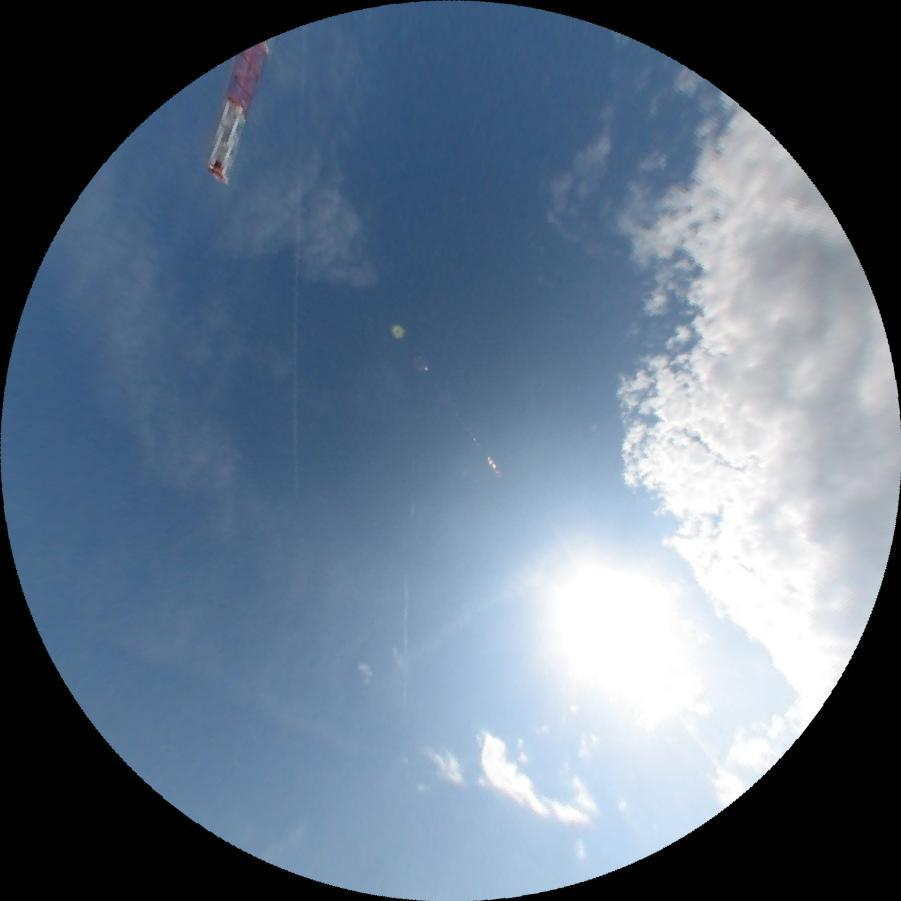contrail old: (403, 578, 408, 702)
contrail young: (290, 24, 308, 495)
sun: (519, 533, 741, 740)
